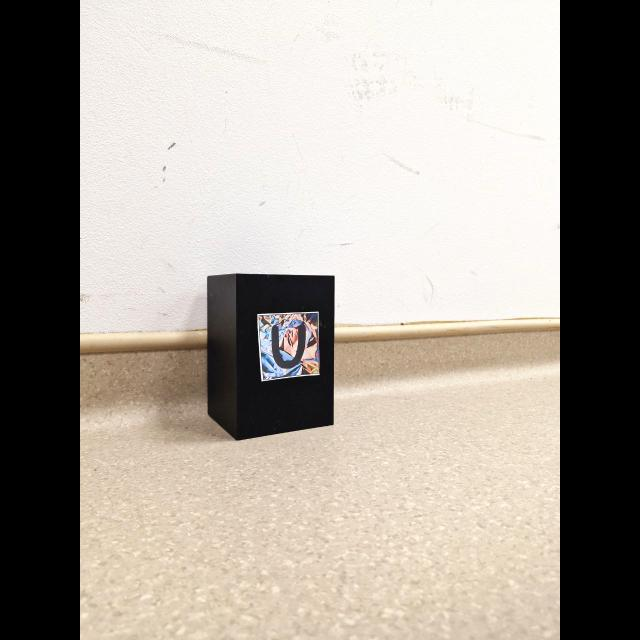U: (272, 324, 306, 369)
